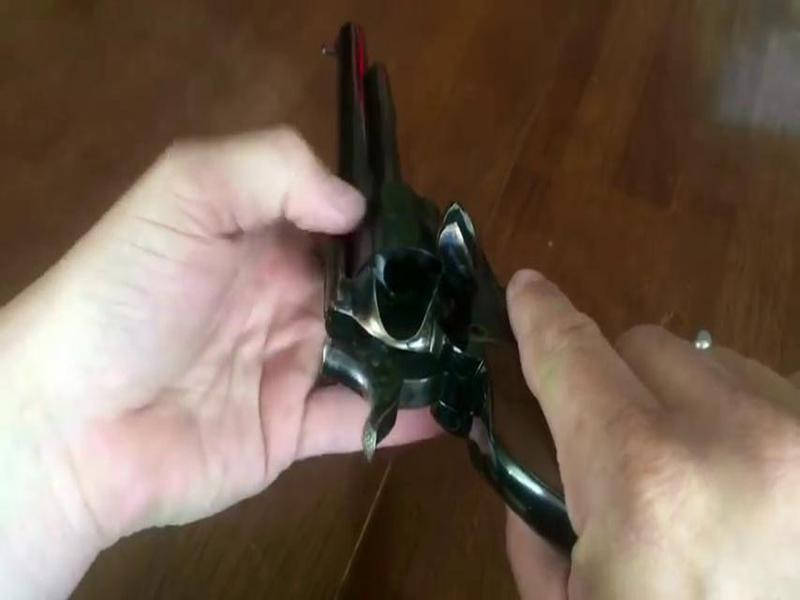Revolver: (297, 19, 542, 464)
